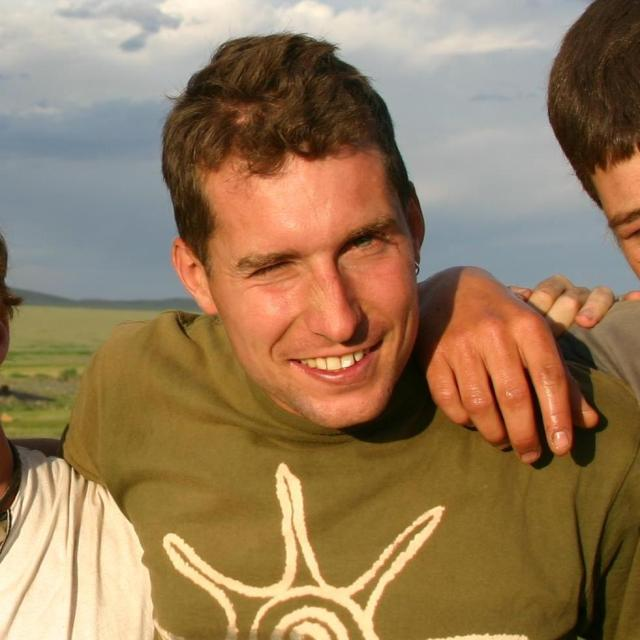Eyeclosed: (242, 252, 298, 286), (342, 227, 384, 253)
